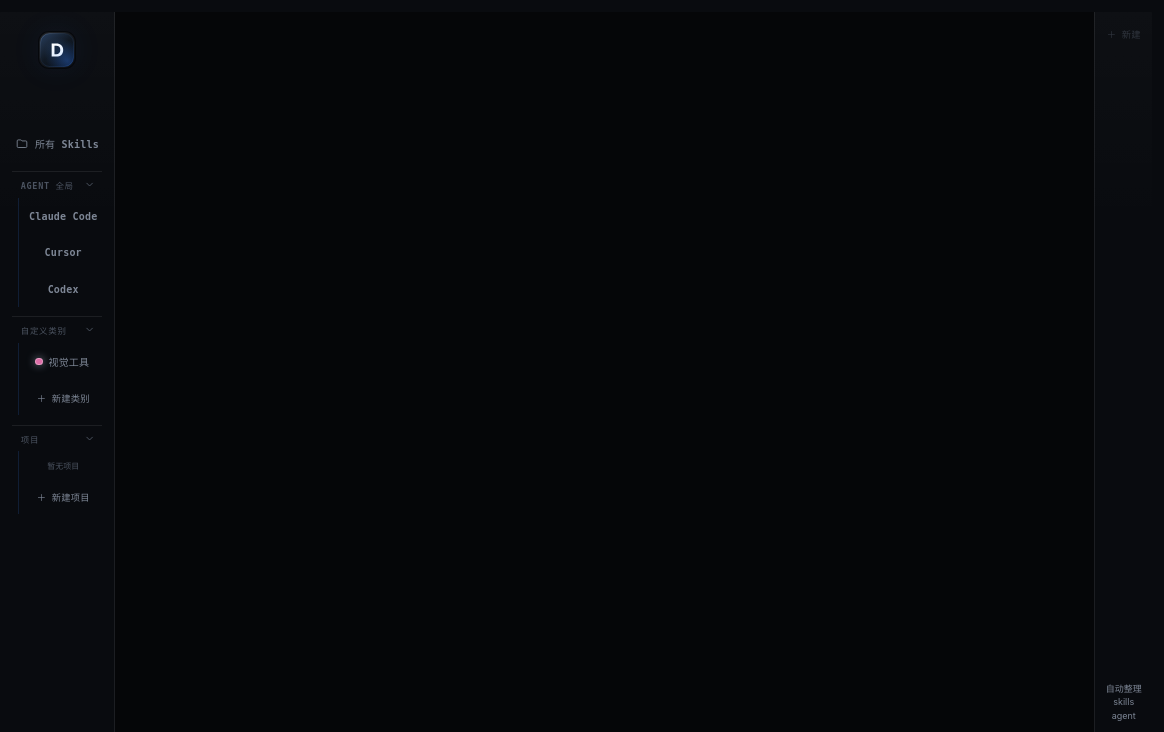
Test: left category groups › renders persisted custom categories with their color and opens their view
Expected: the element with class "category-button__dot" has style "backgroundColor: #de6ea8", [35,358,43,365]
What coordinates should you click on to do the following:
click the button with aria-label "视觉工具 Skills"
I would click on:
 (63, 362)
Its box is [24,346,102,378].
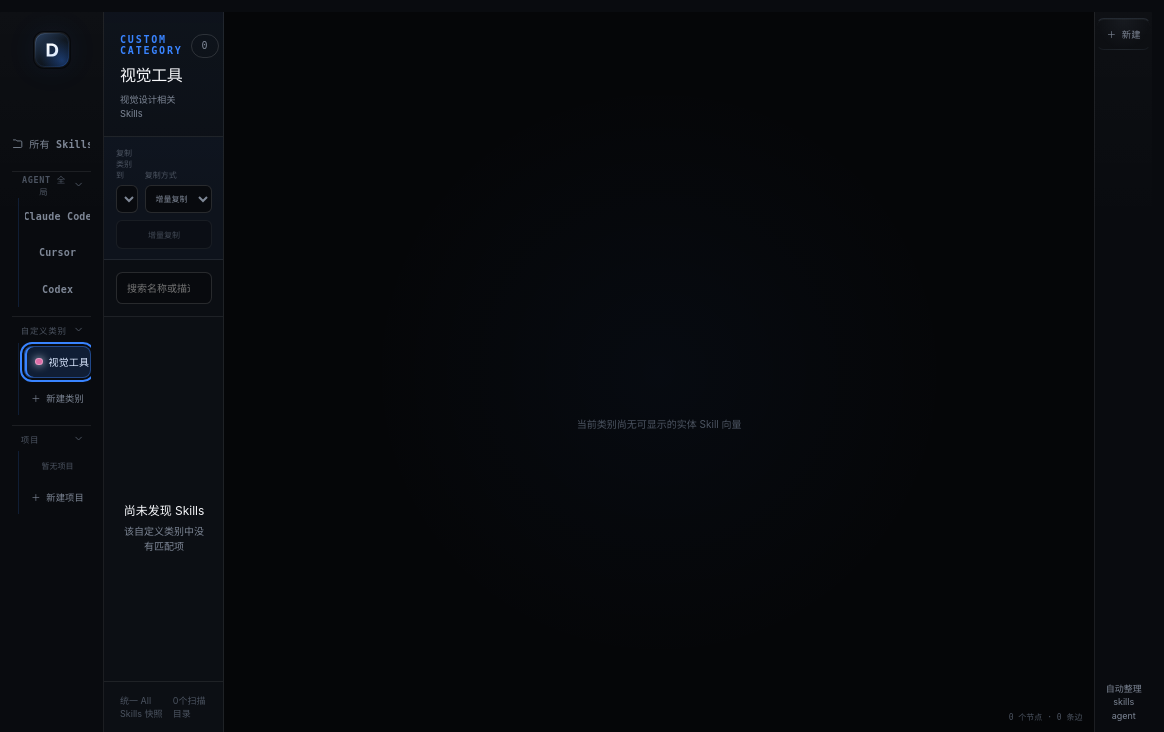
Result: the heading "视觉工具" is shown at [120,62,183,86]
